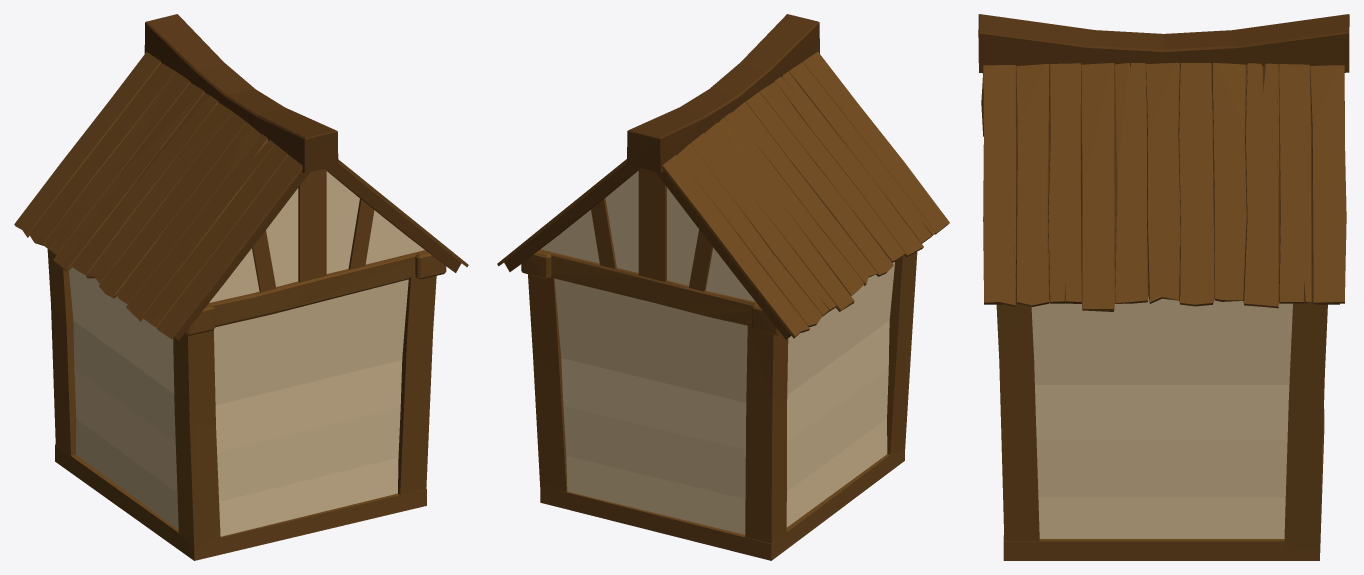
Rendered from SmallHouse_04.fbx.
The picture shows the model from 3 angles, left to right: view 1: azimuth 30°, elevation 25°; view 2: azimuth 150°, elevation 25°; view 3: azimuth 270°, elevation 25°; orthographic projection. The views are drawn at different scales.
Visible parts, largest first — view 1: SmallHouse_04; view 2: SmallHouse_04; view 3: SmallHouse_04.
Boxes of the visible parts, left/top/right/bottom form: SmallHouse_04: left=14, top=14, right=468, bottom=560; SmallHouse_04: left=497, top=14, right=949, bottom=560; SmallHouse_04: left=978, top=14, right=1349, bottom=560.
Size of the model in its own units: 323 by 410 by 292.
